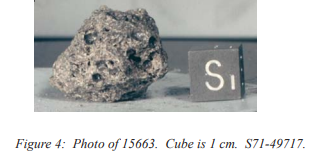Basalt: (55, 2, 176, 110)
